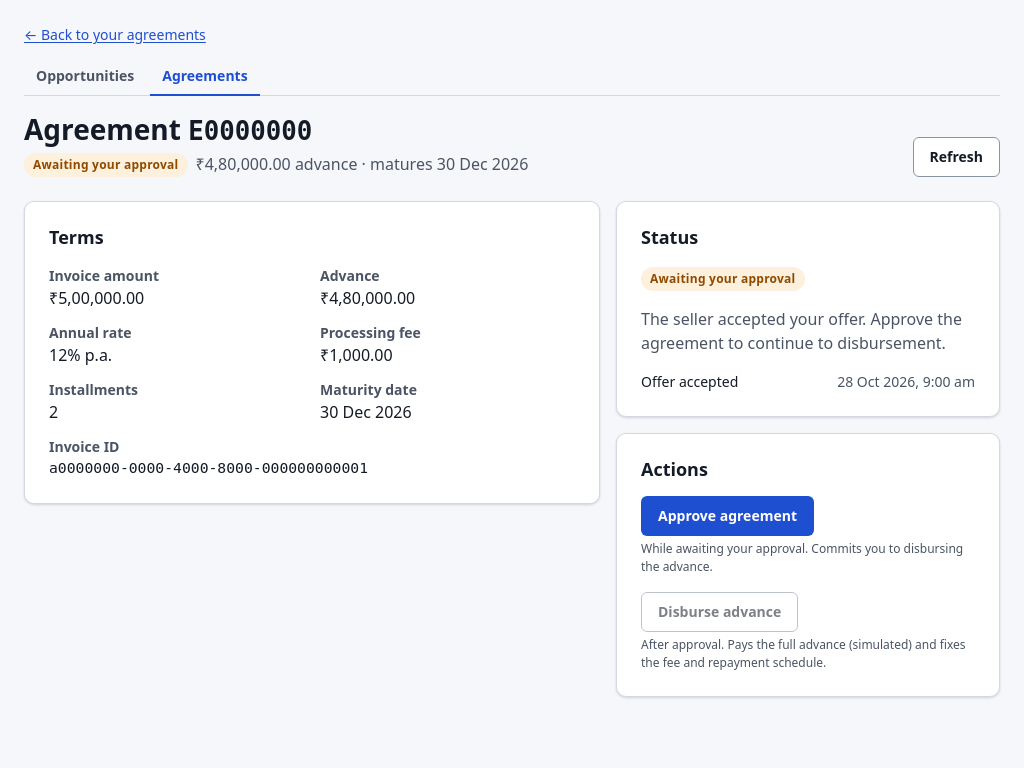
Test: AgreementDetailComponent › says when too many requests were made
Click the button "Approve agreement".
click(728, 516)  # box x1=641 y1=496 x2=814 y2=536
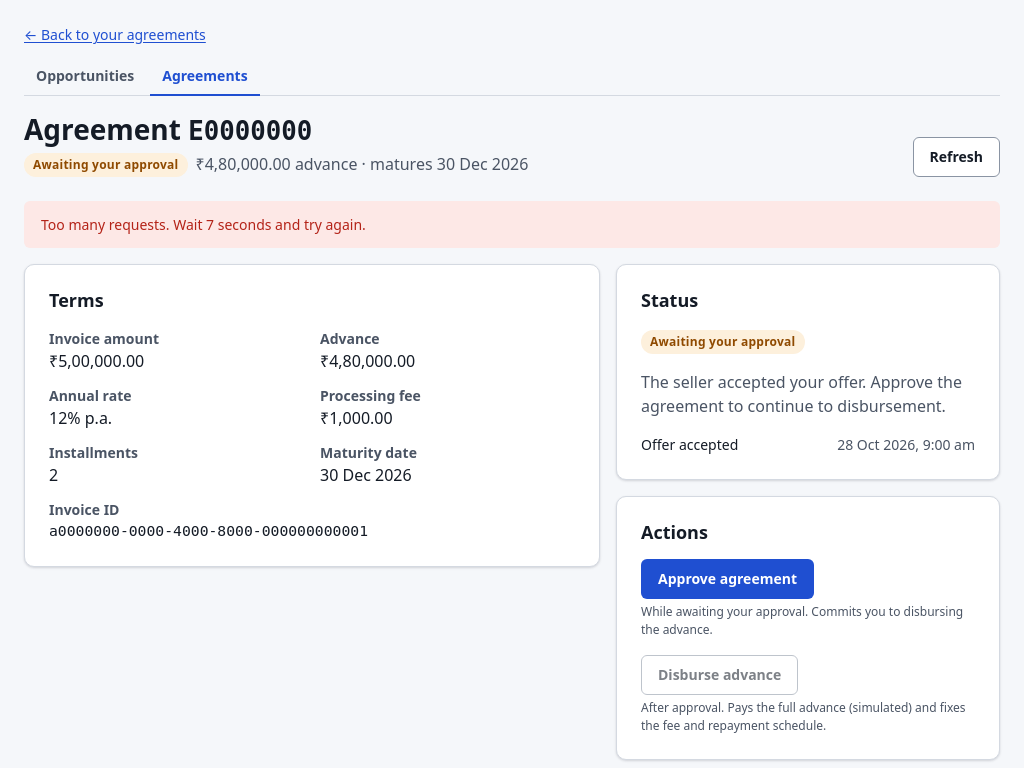
Expected: the button "Approve agreement" is enabled, x1=641 y1=559 x2=814 y2=599
Expected: the message with class "notice" shows "Wait 7 seconds", x1=41 y1=215 x2=366 y2=234
